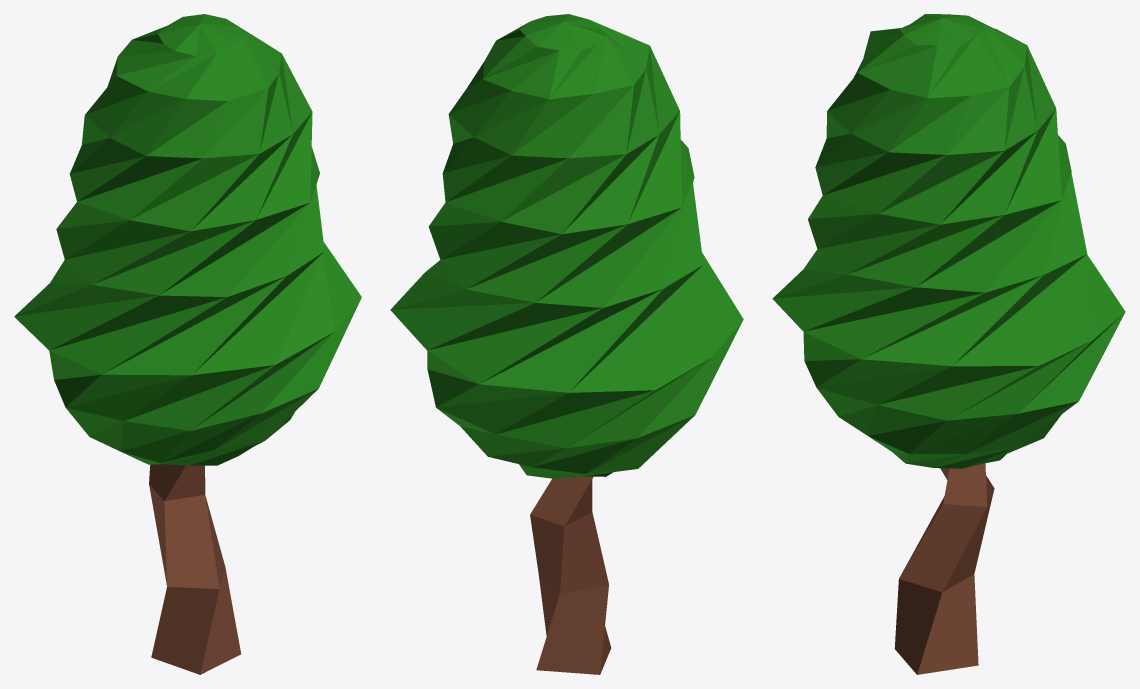
The model's file is Tree_14_summer_mat.fbx.
The picture shows the model from 3 angles, left to right: view 1: azimuth 30°, elevation 25°; view 2: azimuth 150°, elevation 25°; view 3: azimuth 270°, elevation 25°; orthographic projection. The views are drawn at different scales.
Parts seen in each view (by area): view 1: Tree_14_summer_mat; view 2: Tree_14_summer_mat; view 3: Tree_14_summer_mat.
Boxes of the visible parts, x1,y1,x2,y2 form: Tree_14_summer_mat: [14, 14, 361, 674]; Tree_14_summer_mat: [390, 14, 743, 674]; Tree_14_summer_mat: [772, 14, 1125, 674].
Size of the model in its own units: 4.17 by 8.91 by 4.44.
